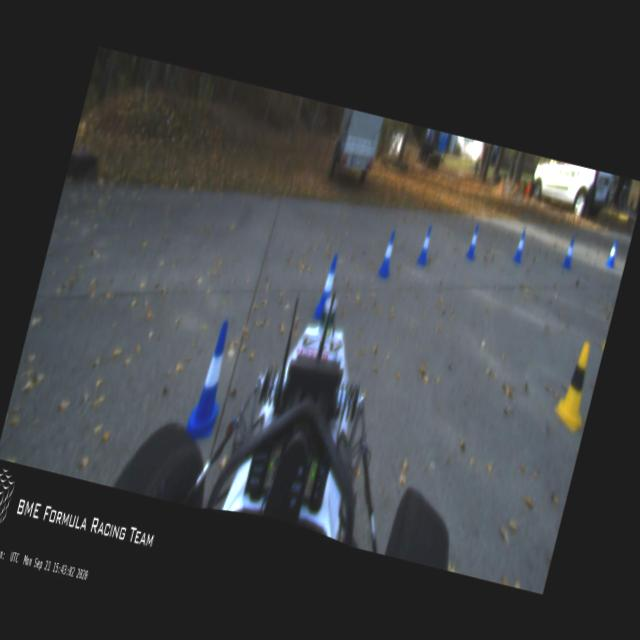blue_cone: (182, 314, 242, 440), (313, 252, 341, 319), (377, 230, 399, 278), (415, 224, 435, 265), (561, 235, 578, 270), (464, 223, 481, 258), (512, 228, 528, 264), (606, 241, 619, 265)
yellow_cone: (550, 337, 602, 434)
